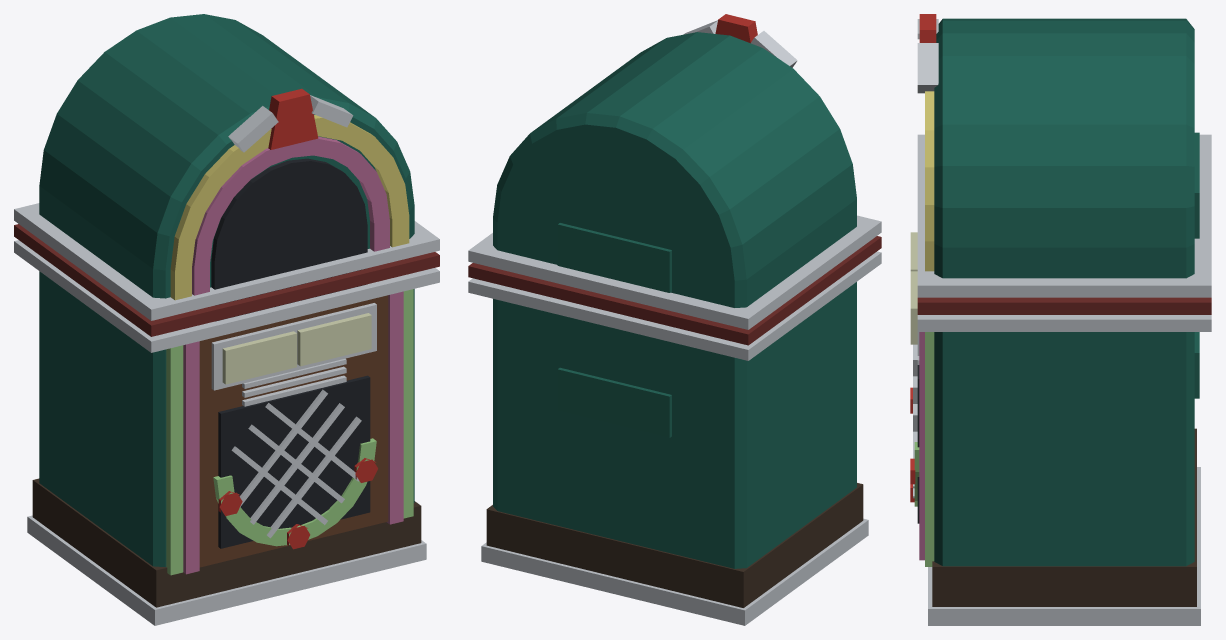
File: home_jukebox.glb
The picture shows the model from 3 angles, left to right: view 1: azimuth 30°, elevation 25°; view 2: azimuth 150°, elevation 25°; view 3: azimuth 270°, elevation 25°; orthographic projection. The views are drawn at different scales.
Parts seen in each view (by area): view 1: jukebox; view 2: jukebox; view 3: jukebox.
Boxes of the visible parts, box(x1,y1,x2,y2) form: jukebox: box(14, 14, 439, 625); jukebox: box(468, 14, 881, 625); jukebox: box(910, 14, 1211, 625).
Size of the model in its own units: 0.85 by 1.4 by 0.717.
